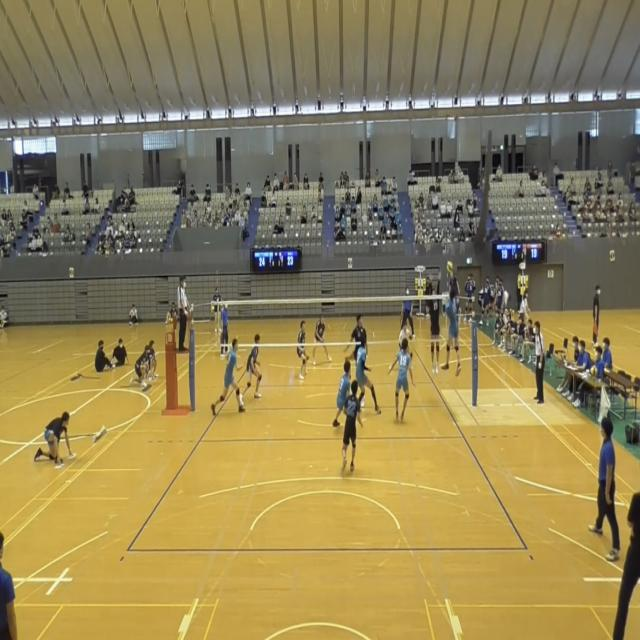spike: (438, 257, 466, 387)
